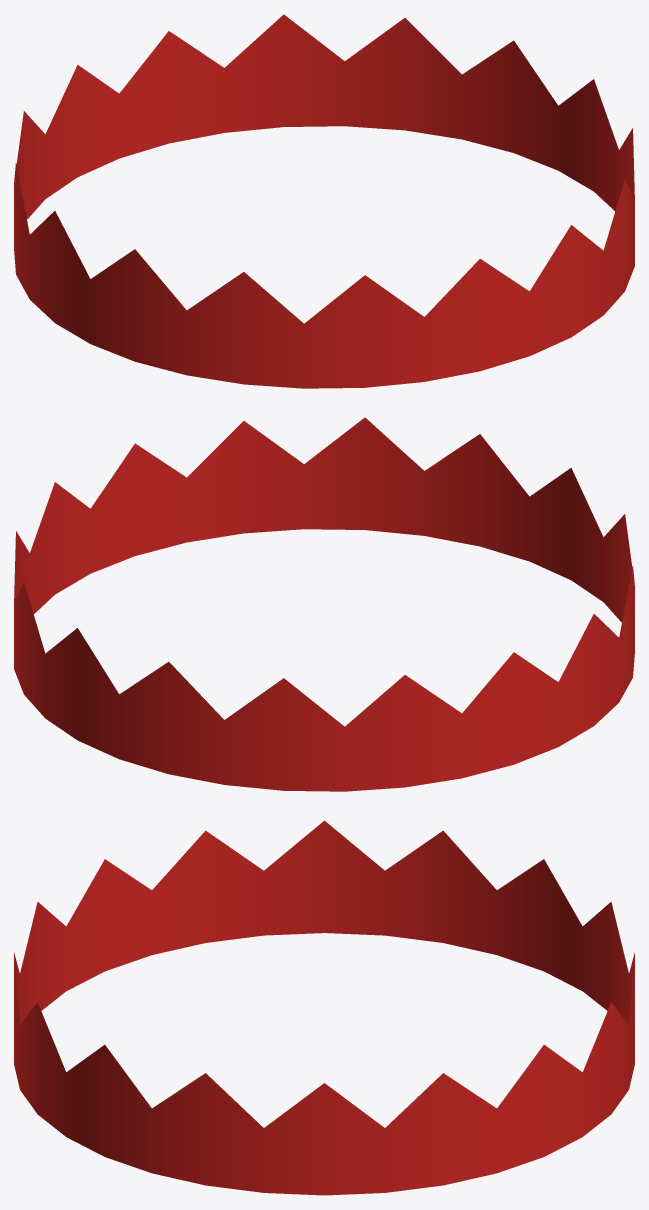
File: ShockWave_ver2.fbx
The picture shows the model from 3 angles, top to bottom: view 1: azimuth 30°, elevation 25°; view 2: azimuth 150°, elevation 25°; view 3: azimuth 270°, elevation 25°; orthographic projection.
Parts seen in each view (by area): view 1: 円柱; view 2: 円柱; view 3: 円柱.
Boxes of the visible parts, x1,y1,x2,y2 form: 円柱: [14, 14, 634, 388]; 円柱: [14, 417, 634, 791]; 円柱: [14, 820, 634, 1195].
Bounding box in the file's own units: 1000 × 200 × 1000.
